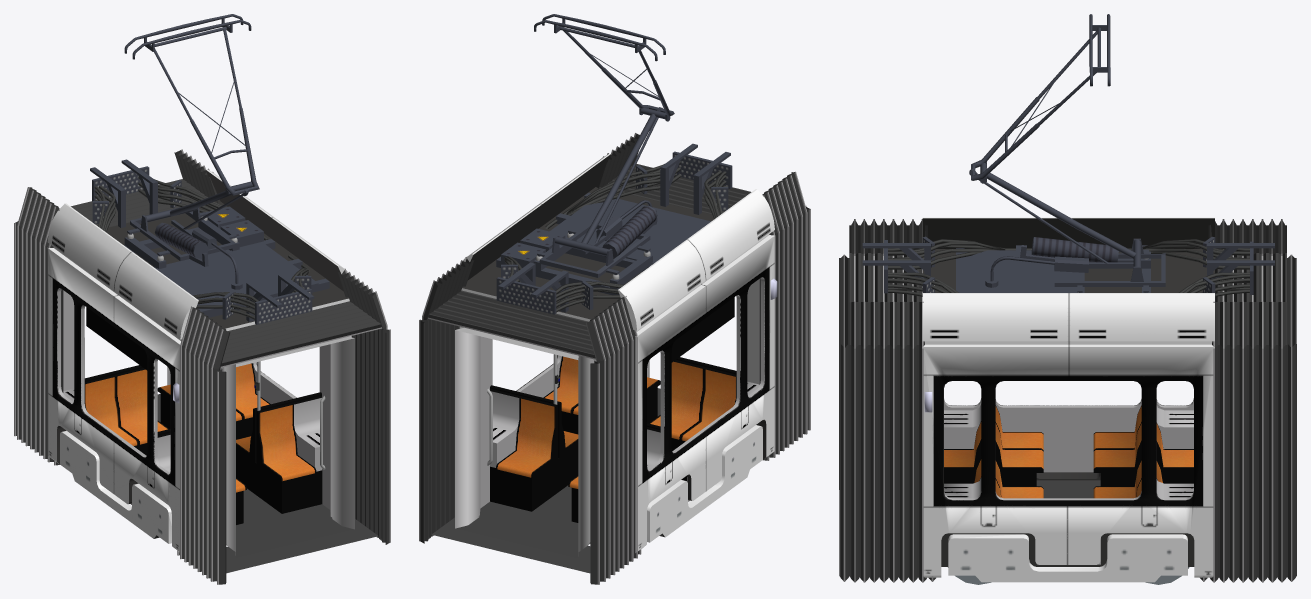
The picture shows the model from 3 angles, left to right: view 1: azimuth 30°, elevation 25°; view 2: azimuth 150°, elevation 25°; view 3: azimuth 270°, elevation 25°; orthographic projection. The views are drawn at different scales.
Visible parts, largest first — view 1: body, garm, int; view 2: body, garm, int; view 3: body, garm, int.
Part boxes in pixels (x1,y1,x2,y2): body: [47, 14, 351, 551]; garm: [14, 149, 390, 584]; int: [57, 288, 332, 541]; body: [459, 14, 774, 552]; garm: [419, 133, 810, 584]; int: [479, 277, 764, 543]; body: [862, 14, 1274, 582]; garm: [839, 219, 1296, 582]; int: [944, 398, 1193, 564].
Bounding box in the file's own units: 2.39 × 5.84 × 4.7.
15 materials, 13 textured.
